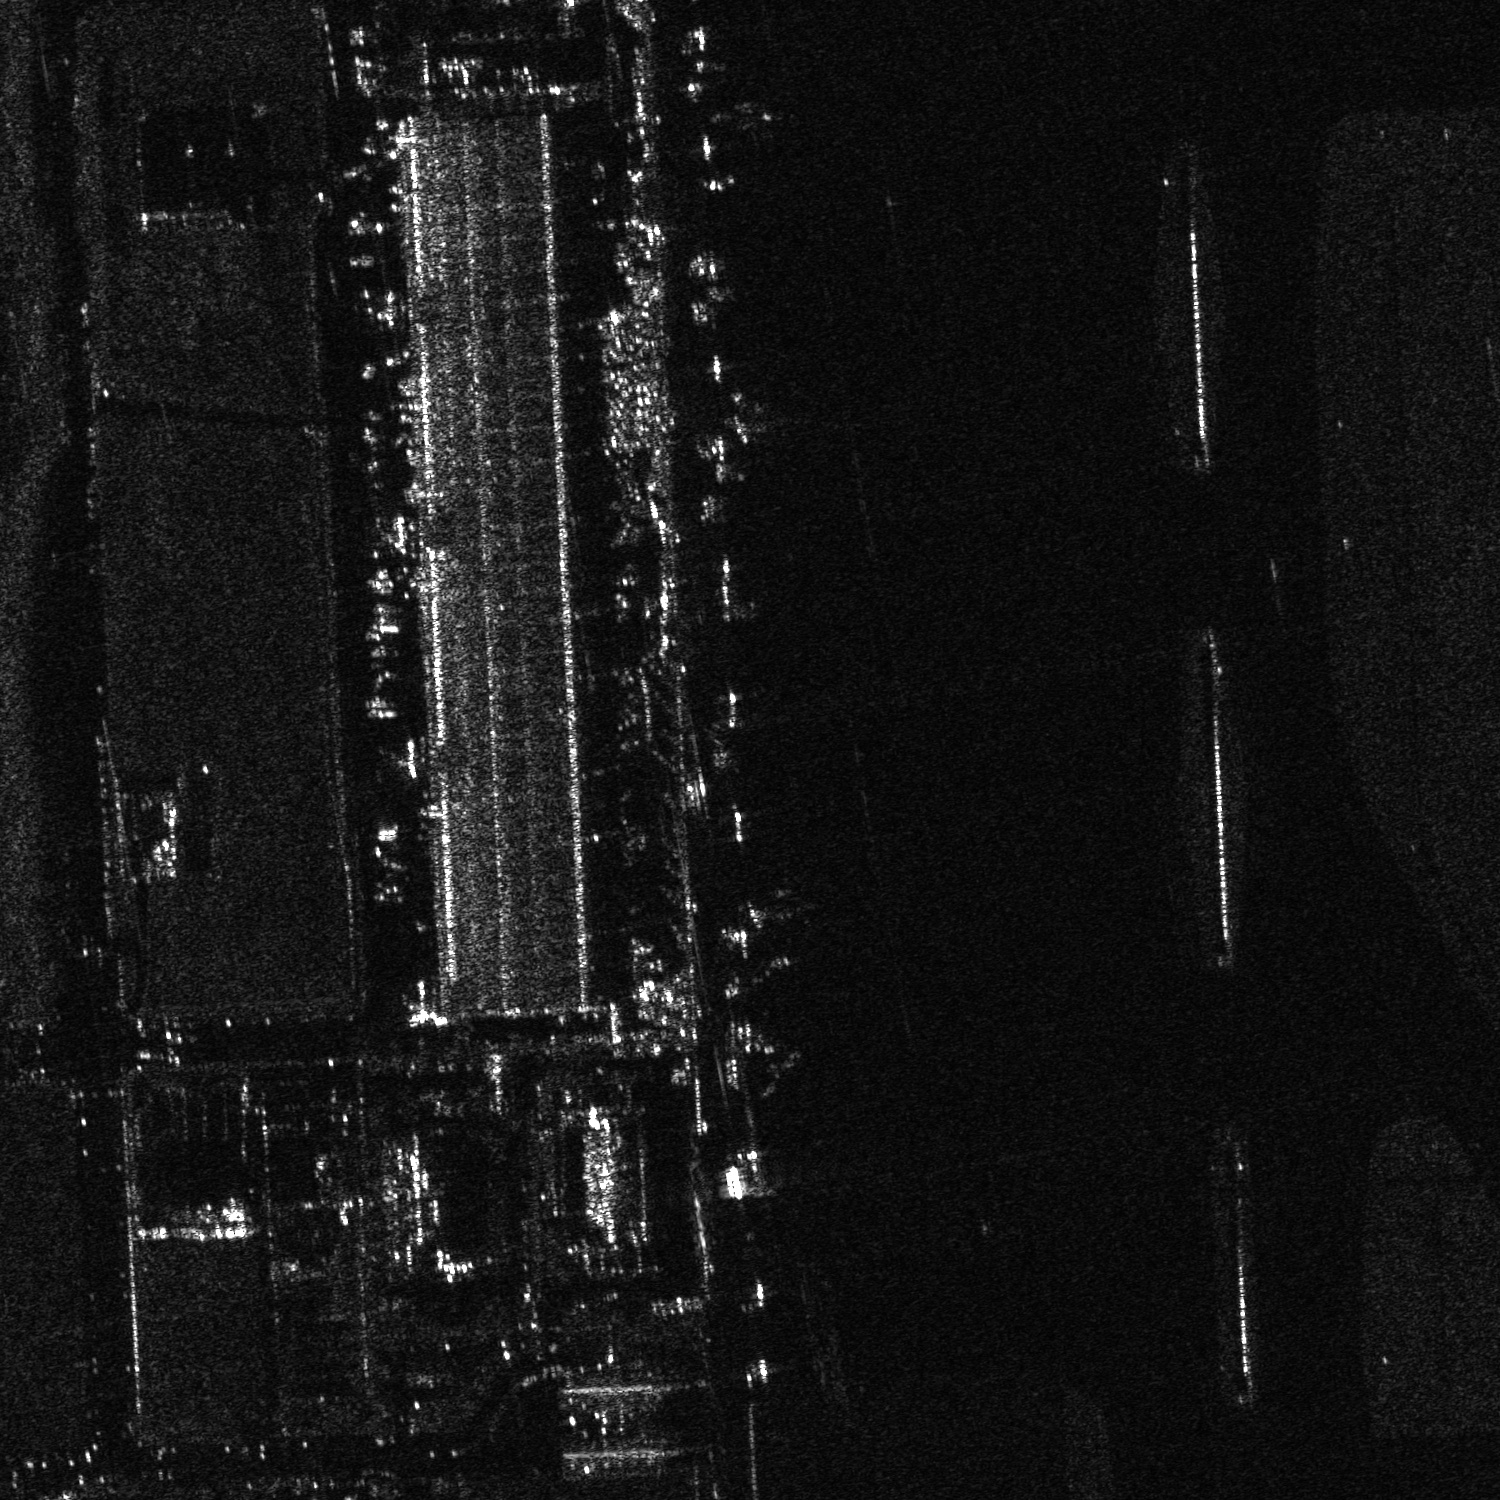Boeing737: (706, 98, 780, 139)
